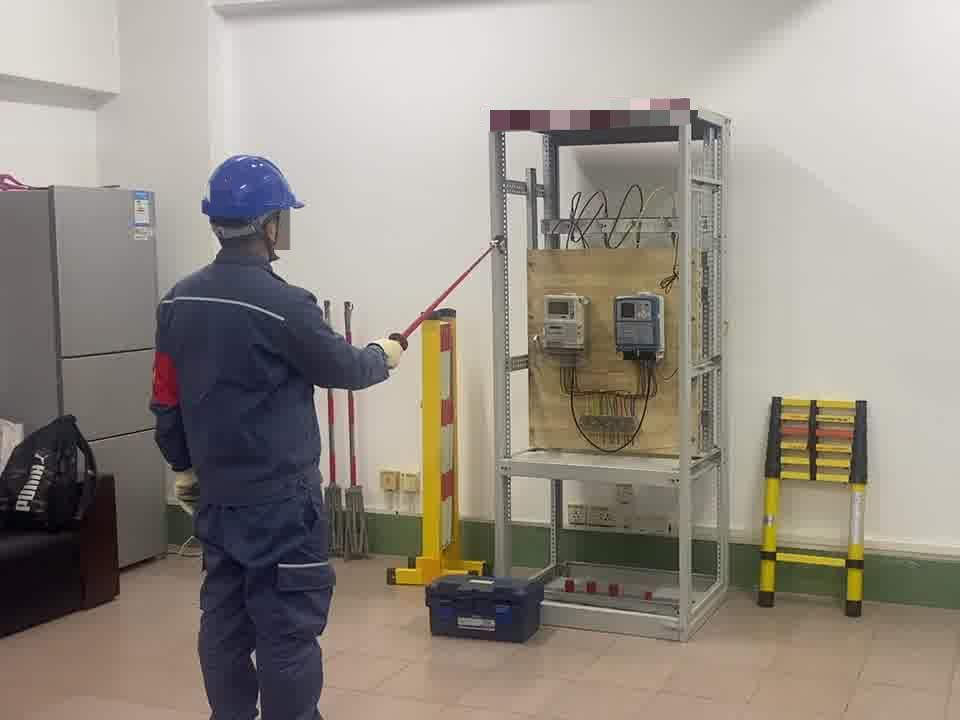halt: (202, 152, 308, 264)
inear: (257, 213, 288, 258)
